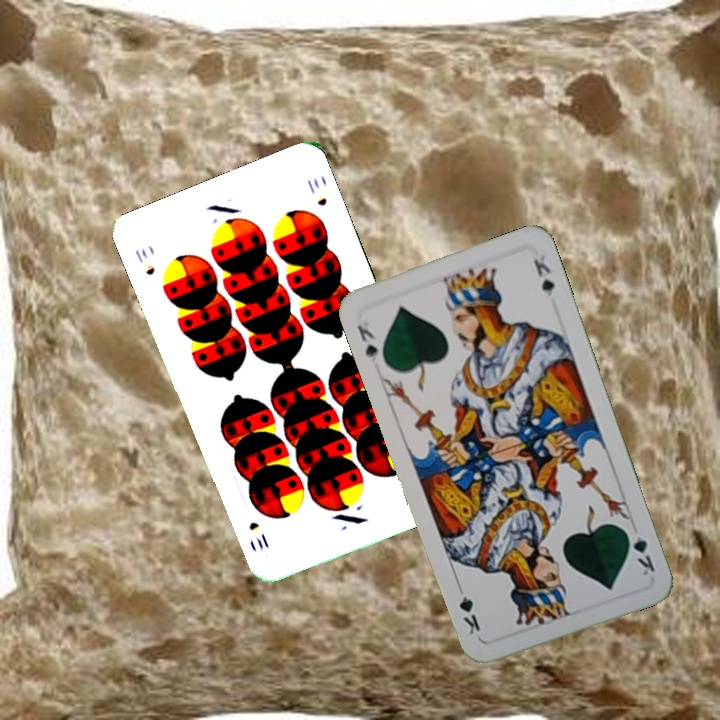GK: (621, 521, 658, 579), (353, 312, 381, 364)
S10: (131, 244, 158, 278)
